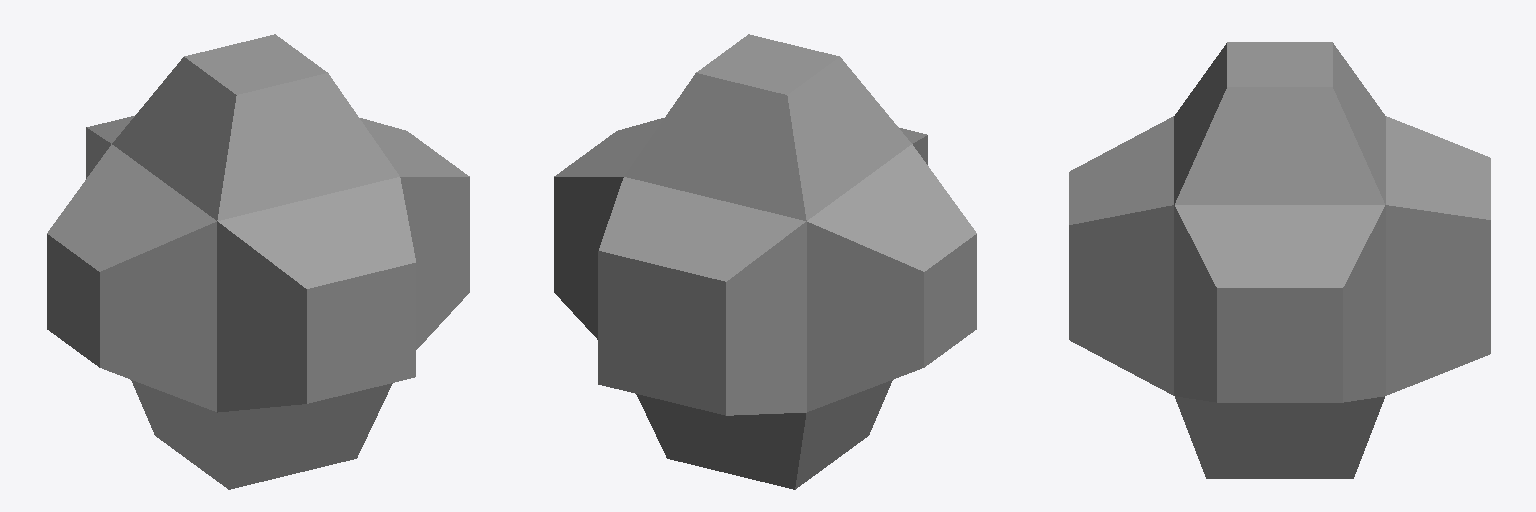
File: figure.obj
3 views of the same model, side by side, from view 1: azimuth 30°, elevation 25°; view 2: azimuth 150°, elevation 25°; view 3: azimuth 270°, elevation 25° (orthographic).
Parts seen in each view (by area): view 1: Cube; view 2: Cube; view 3: Cube.
Boxes of the visible parts, box(x1,y1,x2,y2) form: Cube: box(47, 34, 469, 489); Cube: box(554, 34, 976, 489); Cube: box(1069, 42, 1490, 478).
Bounding box in the file's own units: 4 × 4 × 4.